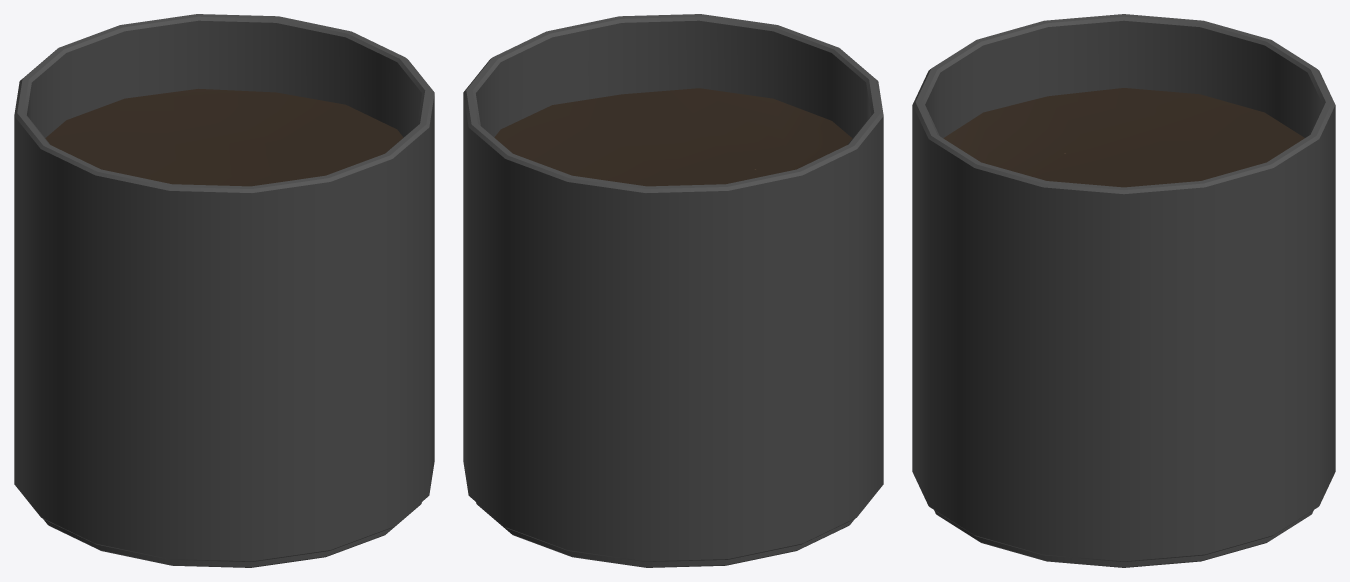
The model's file is DarkGrayPotL.glb.
3 views of the same model, side by side, from view 1: azimuth 30°, elevation 25°; view 2: azimuth 150°, elevation 25°; view 3: azimuth 270°, elevation 25° (orthographic).
Visible parts, largest first — view 1: Dark Gray Pot L; view 2: Dark Gray Pot L; view 3: Dark Gray Pot L.
Boxes of the visible parts, <box> form: Dark Gray Pot L: <box>14,14,434,567</box>; Dark Gray Pot L: <box>463,14,883,567</box>; Dark Gray Pot L: <box>912,14,1335,567</box>.
Size of the model in its own units: 0.2432 by 0.2414 by 0.2432.
1 material, 1 textured.
